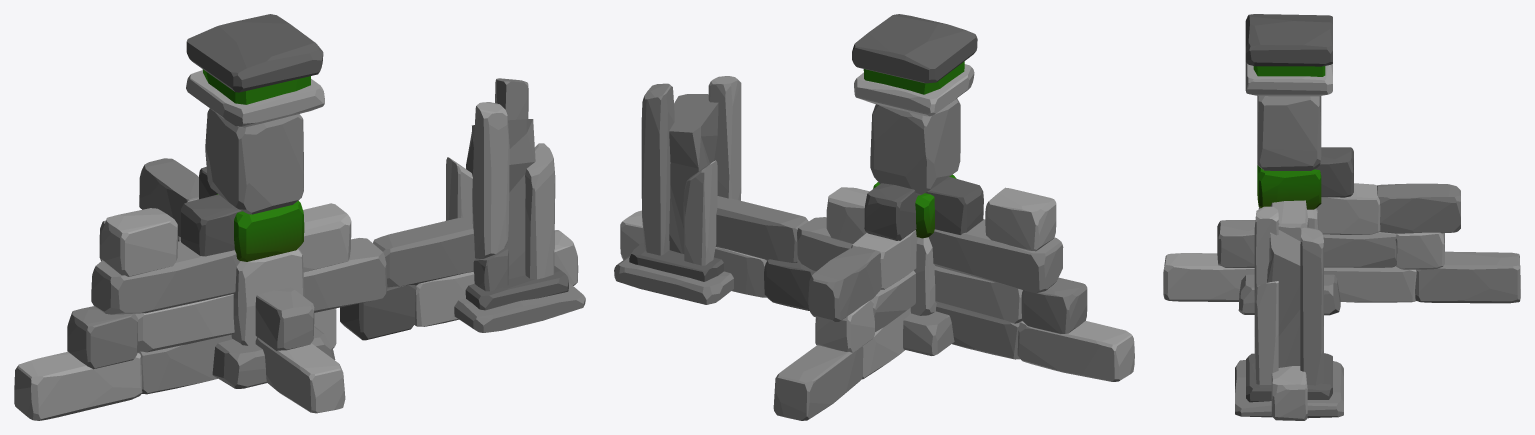
The model's file is Wall02.fbx.
3 renders of one model, left to right at view 1: azimuth 30°, elevation 25°; view 2: azimuth 150°, elevation 25°; view 3: azimuth 270°, elevation 25°, orthographic. The views are drawn at different scales.
Visible parts, largest first — view 1: LOD0; view 2: LOD0; view 3: LOD0.
Boxes of the visible parts, x1=… form: LOD0: x1=14, y1=14, x2=585, y2=420; LOD0: x1=614, y1=14, x2=1134, y2=420; LOD0: x1=1163, y1=14, x2=1520, y2=420.
Size of what is drawn, in the model's own units: 761 by 512 by 425.
